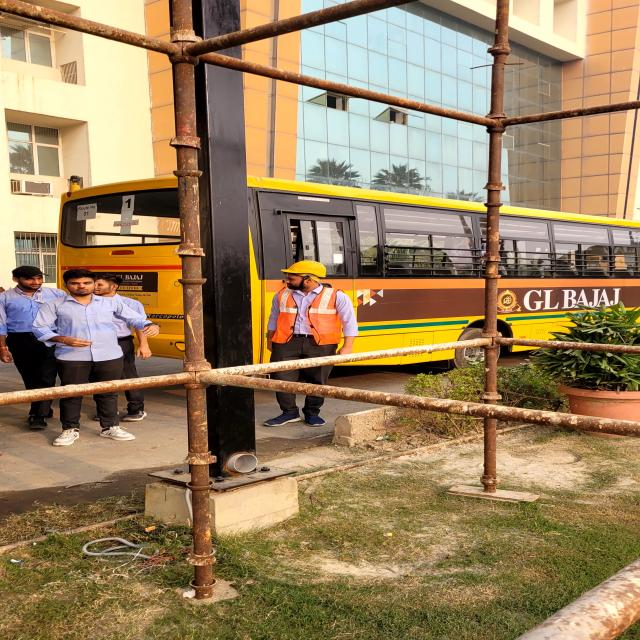safe: (266, 258, 361, 426)
unsafe: (41, 269, 138, 445), (1, 264, 54, 431)
